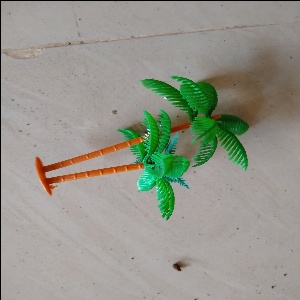plant: (34, 83, 247, 209)
